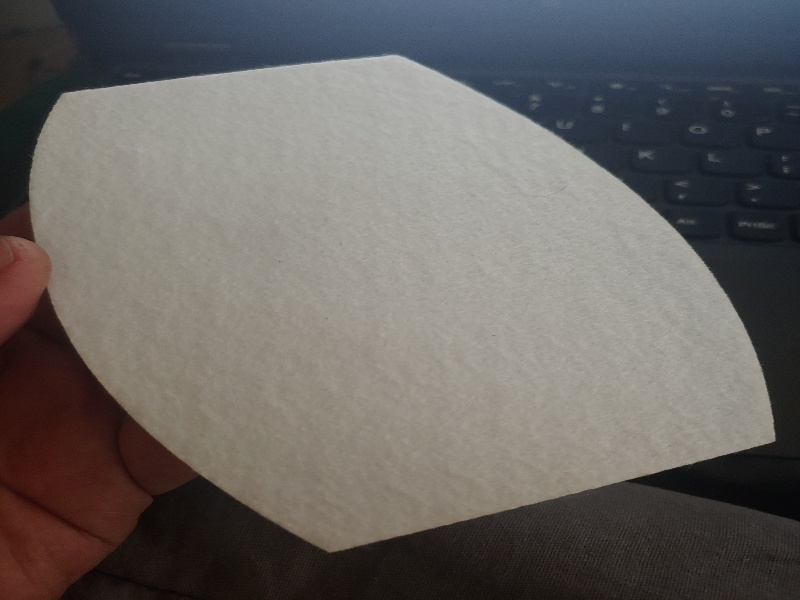Filter: (37, 52, 775, 555)
